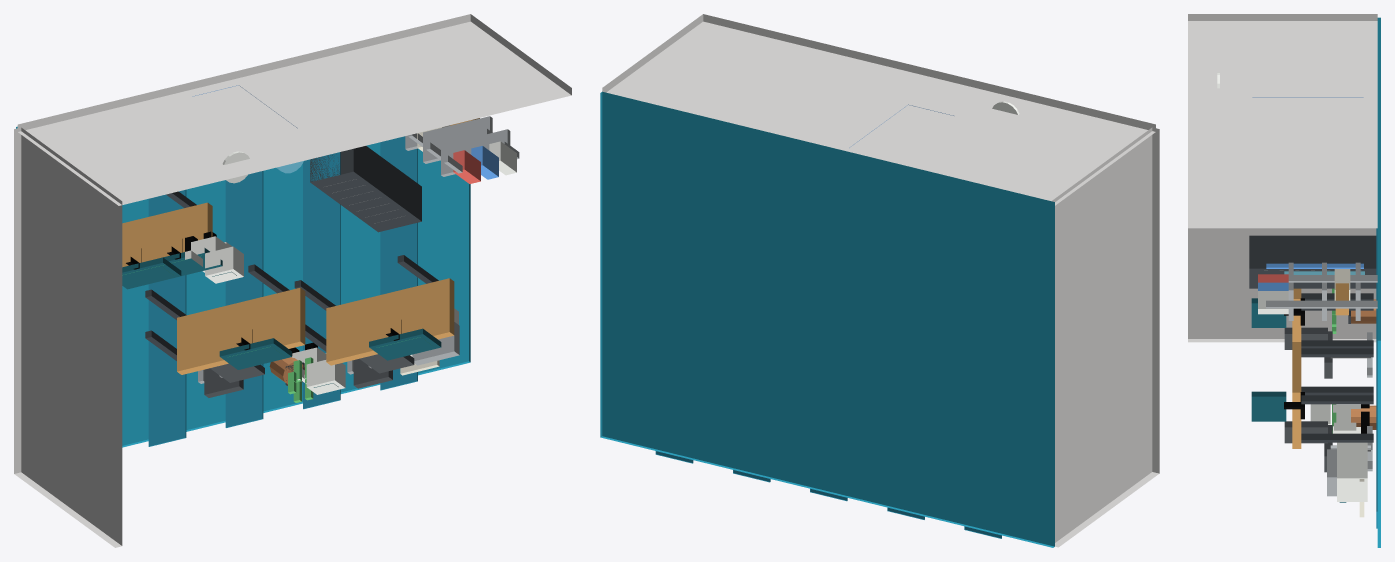
The model's file is office_room_complete.glb.
3 views of the same model, side by side, from view 1: azimuth 30°, elevation 25°; view 2: azimuth 150°, elevation 25°; view 3: azimuth 270°, elevation 25° (orthographic). The views are drawn at different scales.
Visible parts, largest first — view 1: back_wall, left_wall, floor, desk_risk_top, desk_main_top, server_rack_body, floor_dark_1.5, floor_dark_0, floor_dark_-1.5, floor_dark_3, desk_alpha_top, risk_monitor_screen (+9 smaller); view 2: floor, back_wall, left_wall; view 3: back_wall, left_wall, server_rack_body, floor, printer_base, risk_monitor_screen, shelf_files_post_r, desk_risk_top, desk_risk_leg_b, desk_risk_leg_c, desk_risk_leg_d, desk_risk_leg_a (+23 smaller).
Boxes of the visible parts, x1,y1,x2,y2 form: back_wall: (17,14,571,205); left_wall: (14,127,122,547); floor: (16,126,470,447); desk_risk_top: (326,278,454,365); desk_main_top: (177,287,305,374); server_rack_body: (310,146,421,232); floor_dark_1.5: (303,152,340,409); floor_dark_0: (225,171,263,427); floor_dark_-1.5: (148,189,186,446); floor_dark_3: (380,136,417,390); desk_alpha_top: (122,202,212,267); risk_monitor_screen: (369,328,441,360); floor: (600,91,1054,547); back_wall: (602,14,1155,205); left_wall: (1051,127,1159,547); back_wall: (1188,14,1377,228); left_wall: (1188,228,1376,342); server_rack_body: (1249,235,1376,288); floor: (1377,17,1380,547); printer_base: (1337,442,1367,501); risk_monitor_screen: (1251,391,1286,421); shelf_files_post_r: (1266,300,1377,308); desk_risk_top: (1292,342,1301,448); desk_risk_leg_b: (1301,433,1373,442); desk_risk_leg_c: (1301,348,1373,357); desk_risk_leg_d: (1301,395,1373,404); desk_risk_leg_a: (1301,386,1373,395).
Size of the model in its own units: 8.87 by 6.6 by 3.46.
